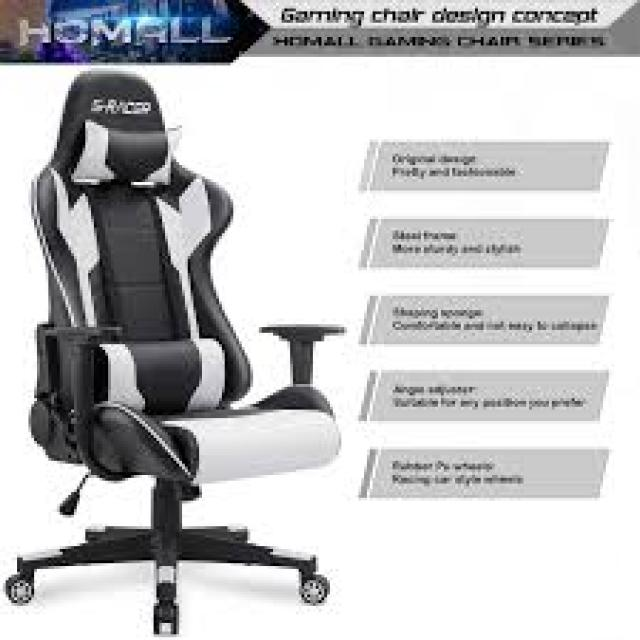chair: (0, 61, 348, 640)
